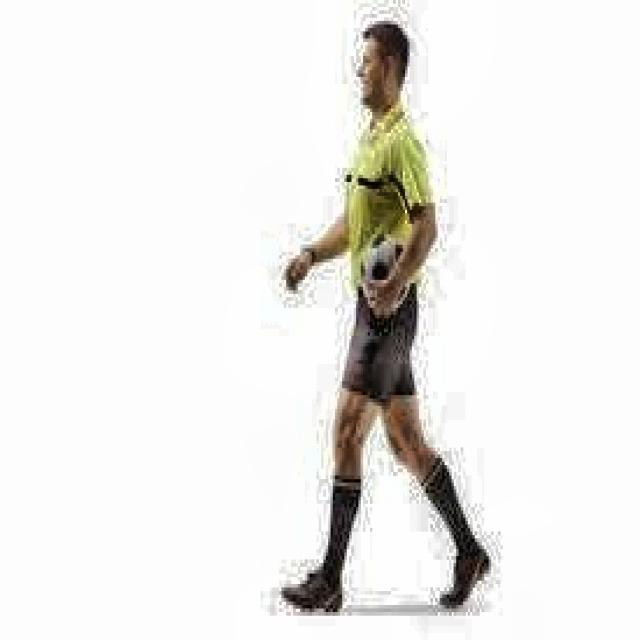Human: (280, 2, 495, 622)
